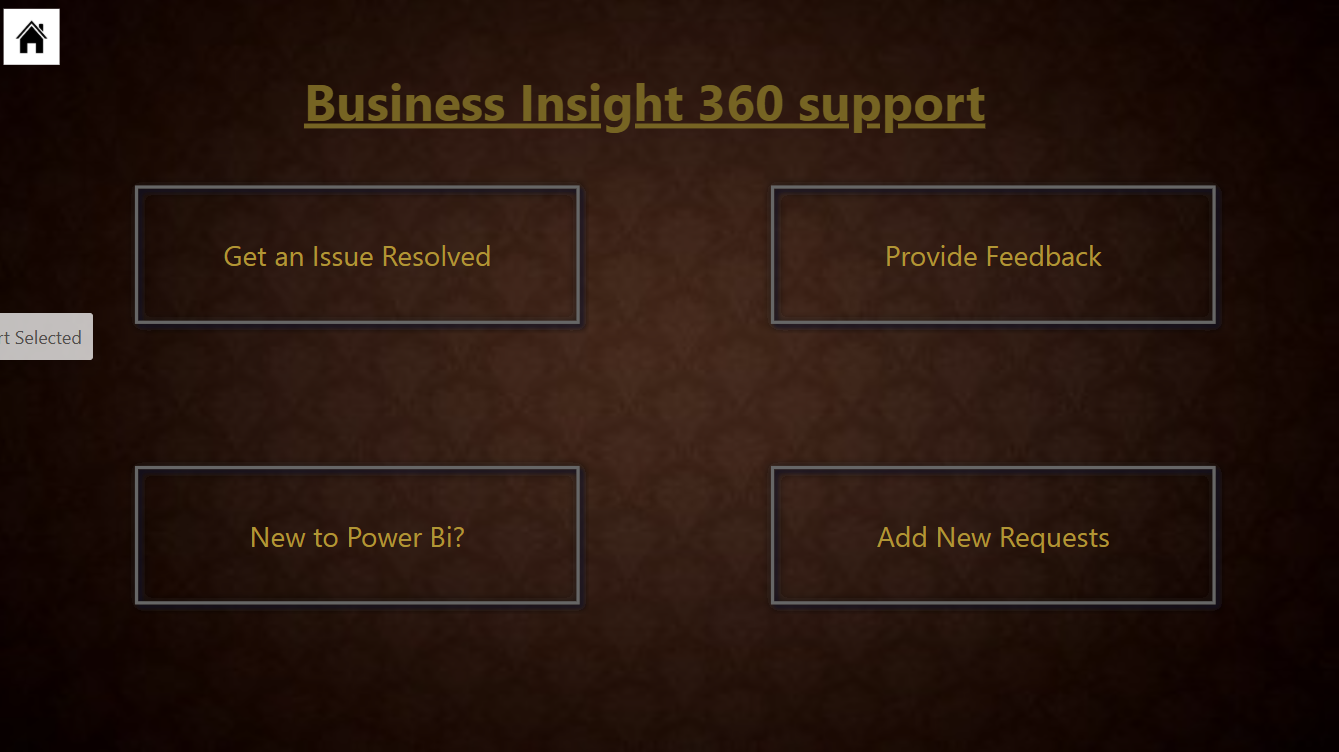

This screenshot's page, from the dashboard's own definition file:
{"tool":"powerbi","page":{"name":"support","canvas":[1280,720],"ordinal":5},"visuals":[{"type":"image","box":[0,0,63.3,71.7],"z":0},{"type":"textbox","box":[150,58.3,931.7,85],"z":1000},{"type":"actionButton","box":[121.5,168.1,441.5,149.9],"z":2000},{"type":"actionButton","box":[727.1,168.1,441.5,149.9],"z":3000},{"type":"actionButton","box":[121.5,435.4,441.5,149.9],"z":4000},{"type":"actionButton","box":[727.1,435.4,441.5,149.9],"z":5000}]}

Visuals, with their boxes in screenshot pixels (x1, y1, x2, y2), scaled from the page's 1280x720 canvas onto the 1339x752 screenshot:
image: (0, 0, 66, 75)
textbox: (157, 61, 1132, 150)
actionButton: (127, 176, 589, 332)
actionButton: (761, 176, 1222, 332)
actionButton: (127, 455, 589, 611)
actionButton: (761, 455, 1222, 611)
